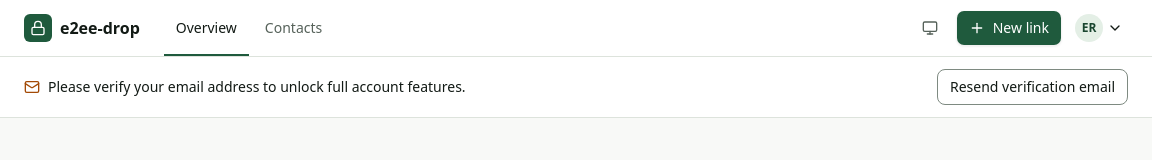
Scenario: NavBar email verification banner › shows a failure message and does not misleadingly imply success on a non-ok response
Click the button with test id "resend-verification-button" at (1032, 87), box [937, 69, 1128, 105]
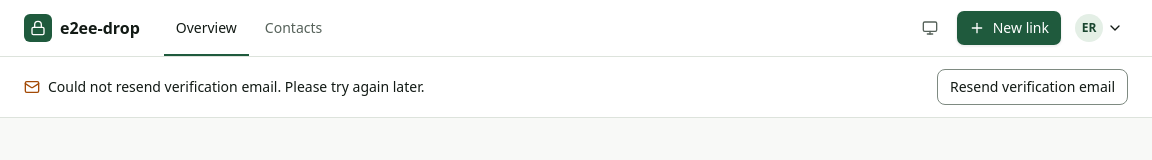
Now the text "Could not resend verification email. Please try again later." is shown, box [48, 77, 424, 97]
Now the text with test id "resend-message" shows "Could not resend", box [48, 77, 424, 96]
